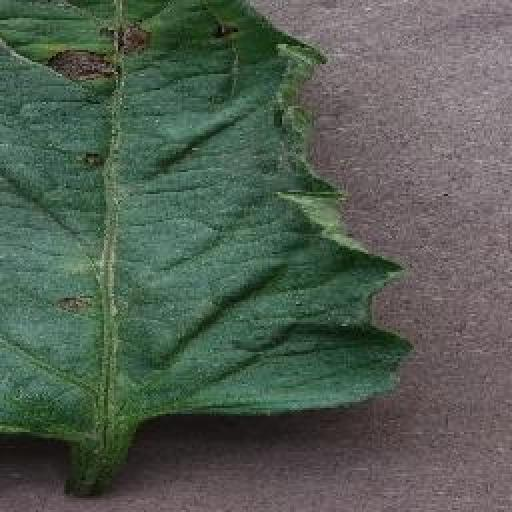Early Blight: (0, 1, 418, 444)
